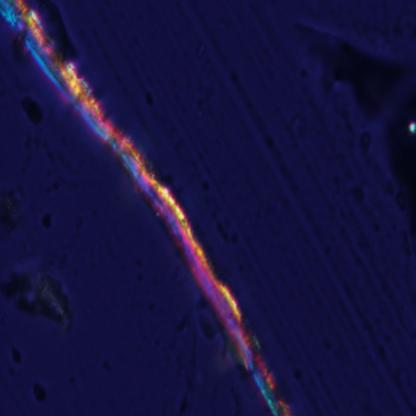Microfibre: (0, 0, 290, 413)
